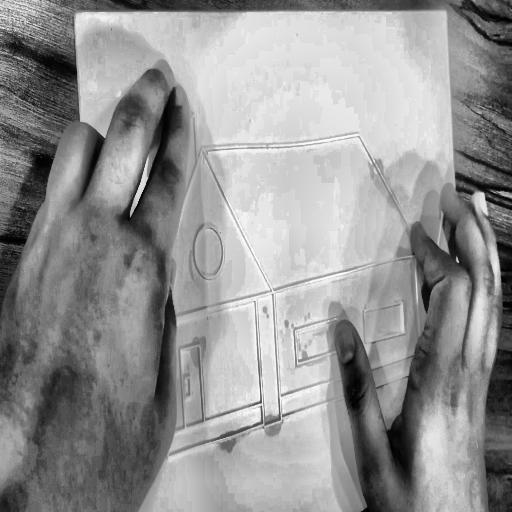house: (120, 84, 451, 491)
top_left: (71, 7, 81, 22)
top_right: (442, 4, 452, 23)
